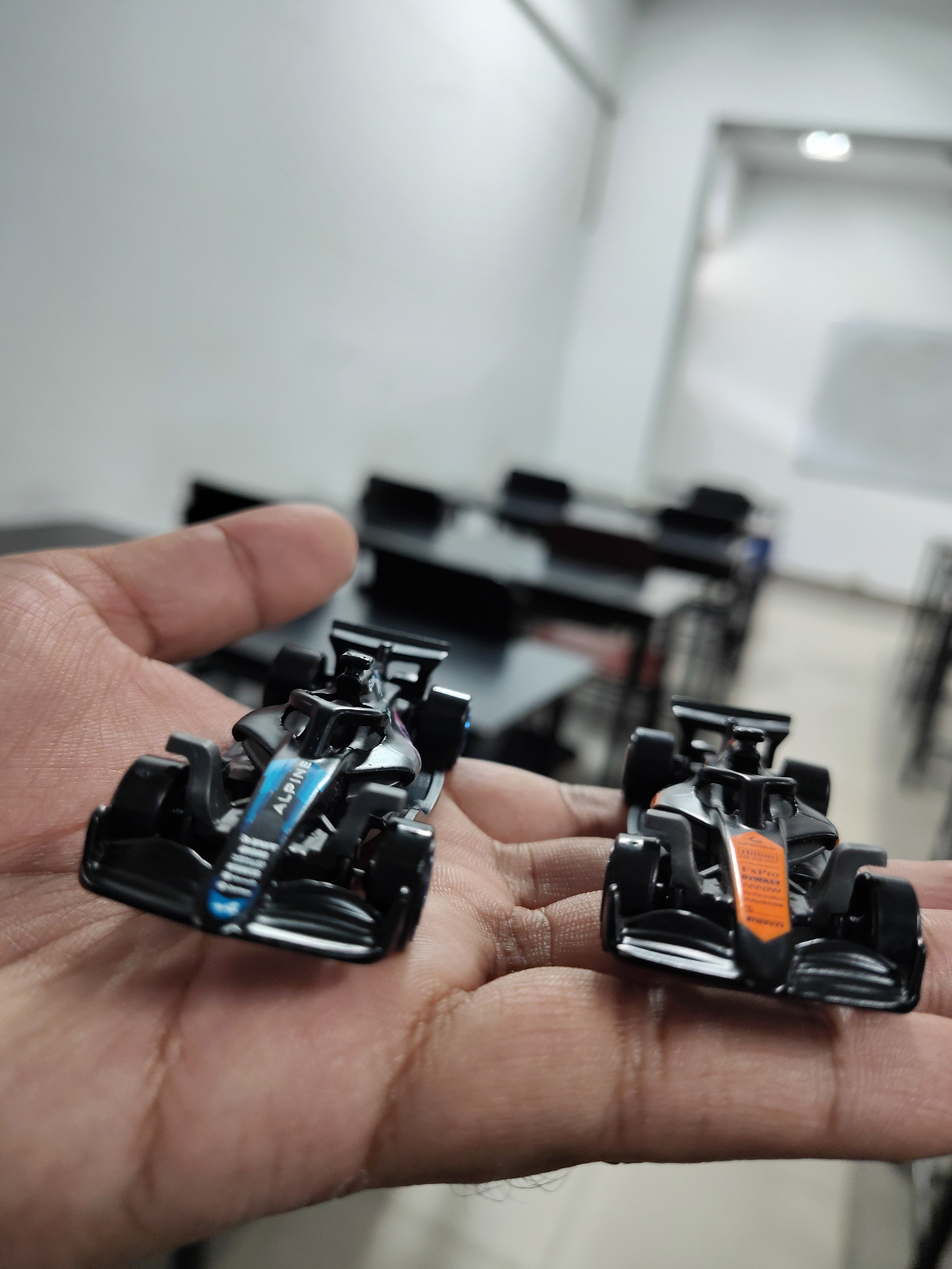Alpine A524: (37, 493, 533, 987)
McLaren MCL40: (575, 538, 939, 1077)
